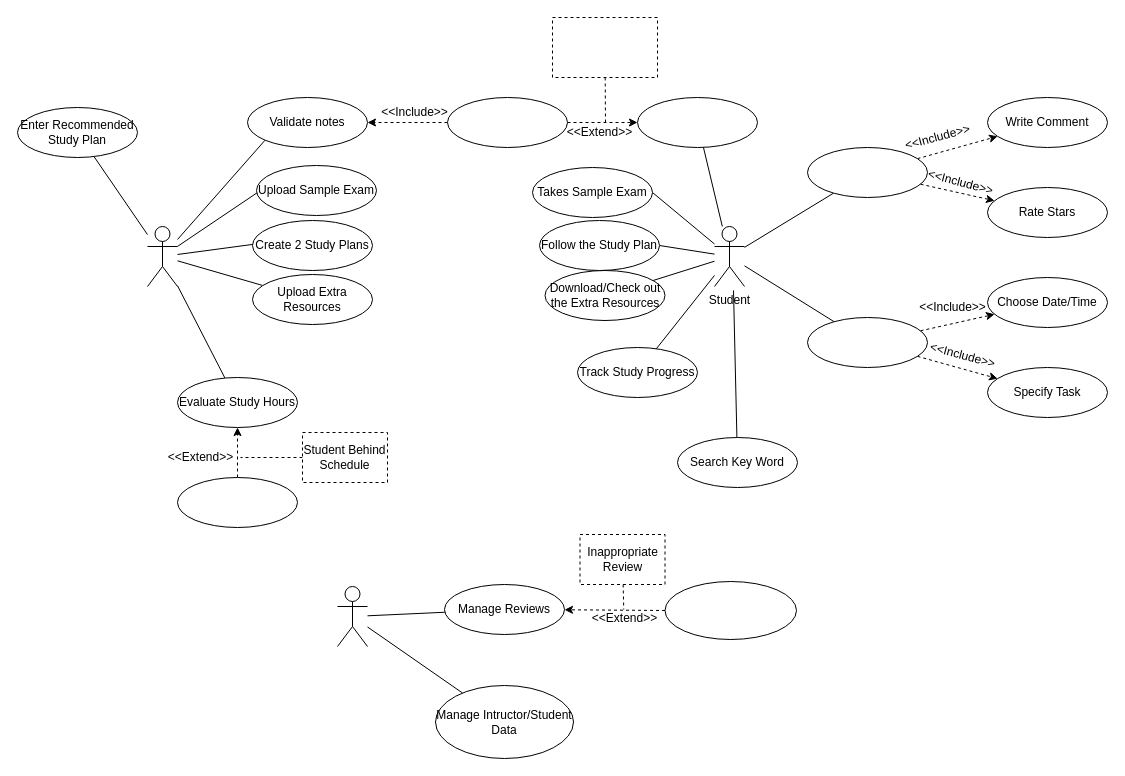
The diagram is 1125 pixels wide and 776 high, and some of its shapes have lost their labels. The centre of each missing label's shape, as x and y in pixels:
Add task to To-Do List: pixel 867 342
Administrator: pixel 352 616
Choose to Share Notes With Class (Public): pixel 605 47
Delete Review Without Knowing the Author: pixel 730 610
Give Review: pixel 867 172
Instructor: pixel 162 256
Notify Students: pixel 237 502
Request to Publish Notes: pixel 507 122
Upload Notes (Private): pixel 697 122
